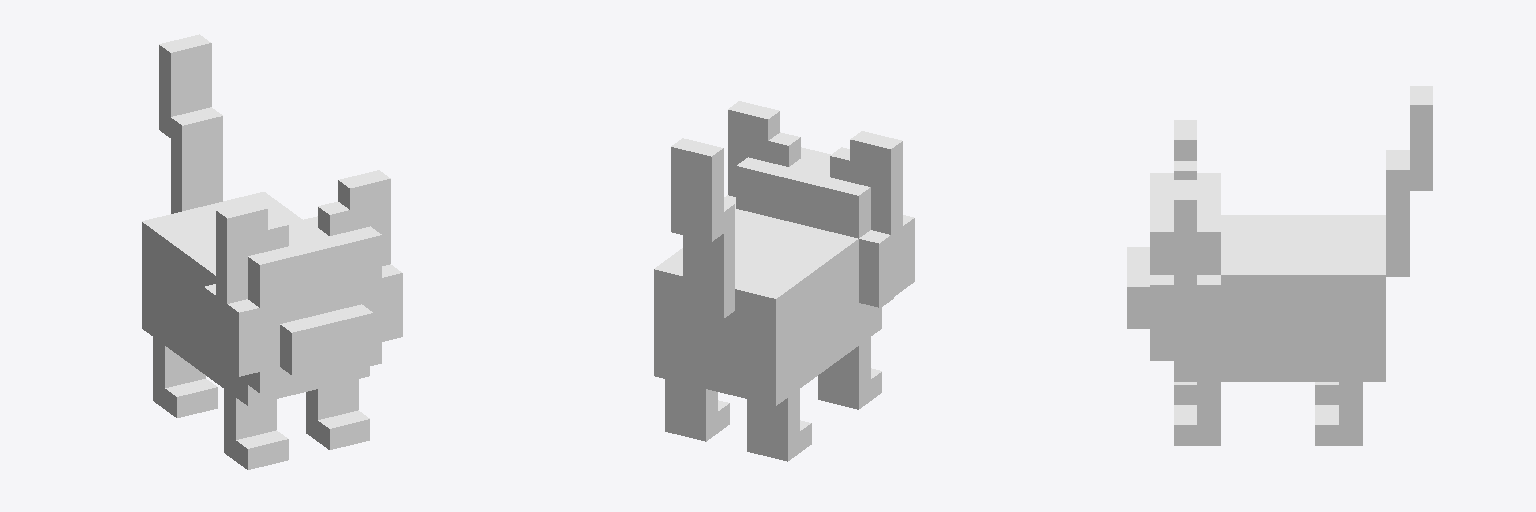
Rendered from Cat2-02.obj.
3 views of the same model, side by side, from view 1: azimuth 30°, elevation 25°; view 2: azimuth 150°, elevation 25°; view 3: azimuth 270°, elevation 25° (orthographic).
Size of the model in its own units: 8 by 15 by 13.